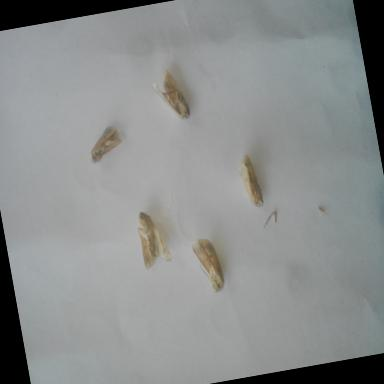abw: (131, 204, 179, 276), (146, 63, 196, 128), (185, 233, 230, 301), (230, 148, 270, 215), (82, 119, 131, 169)
